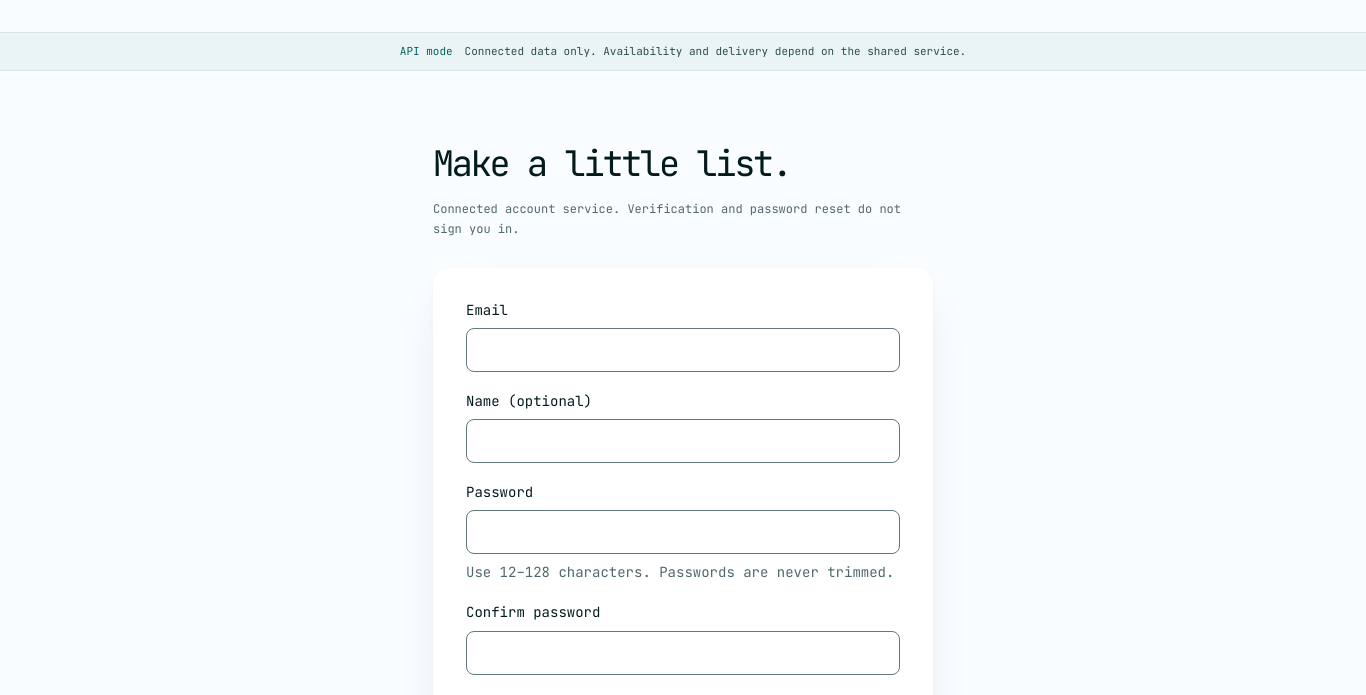
real cookie session screens › registers with optional name and sends forgot-password requests through the actual API
Type "player@example.com" into the field labelled "Email" at (683, 350), box [466, 328, 900, 372]
Type "Player" into the field labelled "Name (optional)" at (683, 441), box [466, 419, 900, 463]
Type "example-password" into the password field labelled "Password" at (683, 532), box [466, 510, 900, 554]
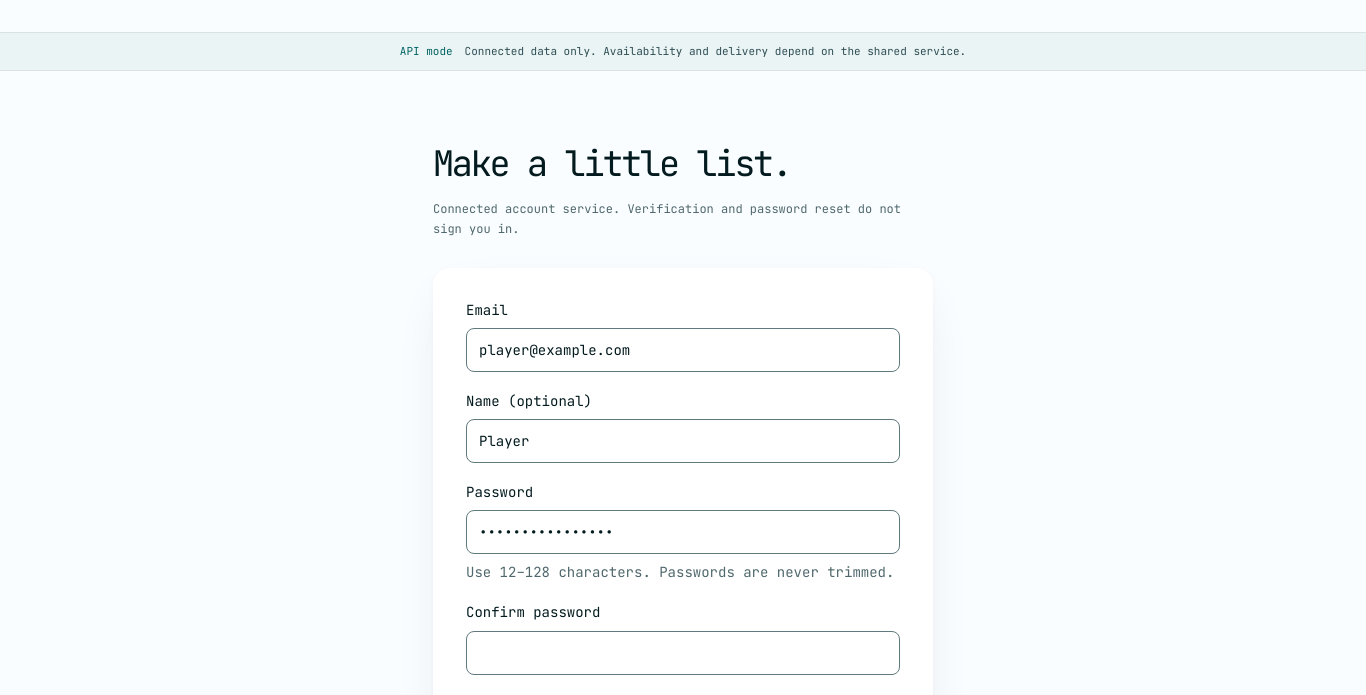
Type "example-password" into the password field labelled "Confirm password" at (683, 653), box [466, 631, 900, 675]
(page scrolled)
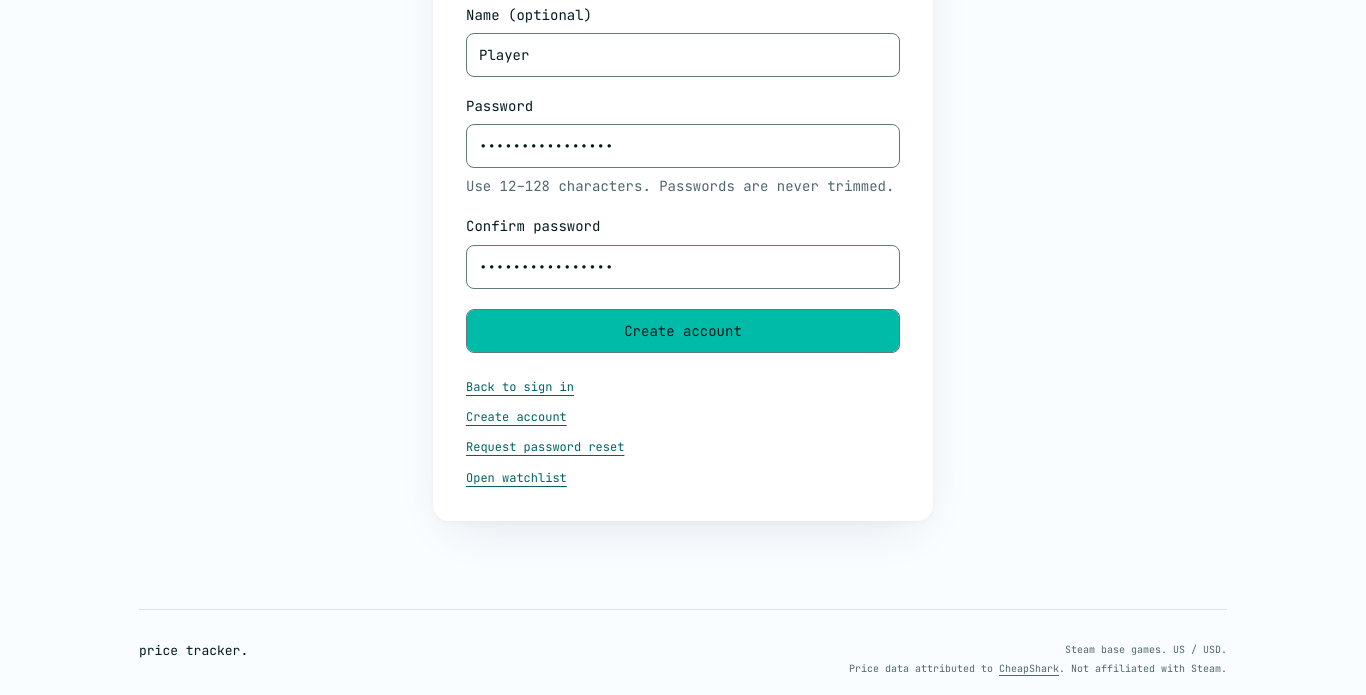
Click the button "Create account" at (683, 331), box [466, 309, 900, 353]
(page scrolled)
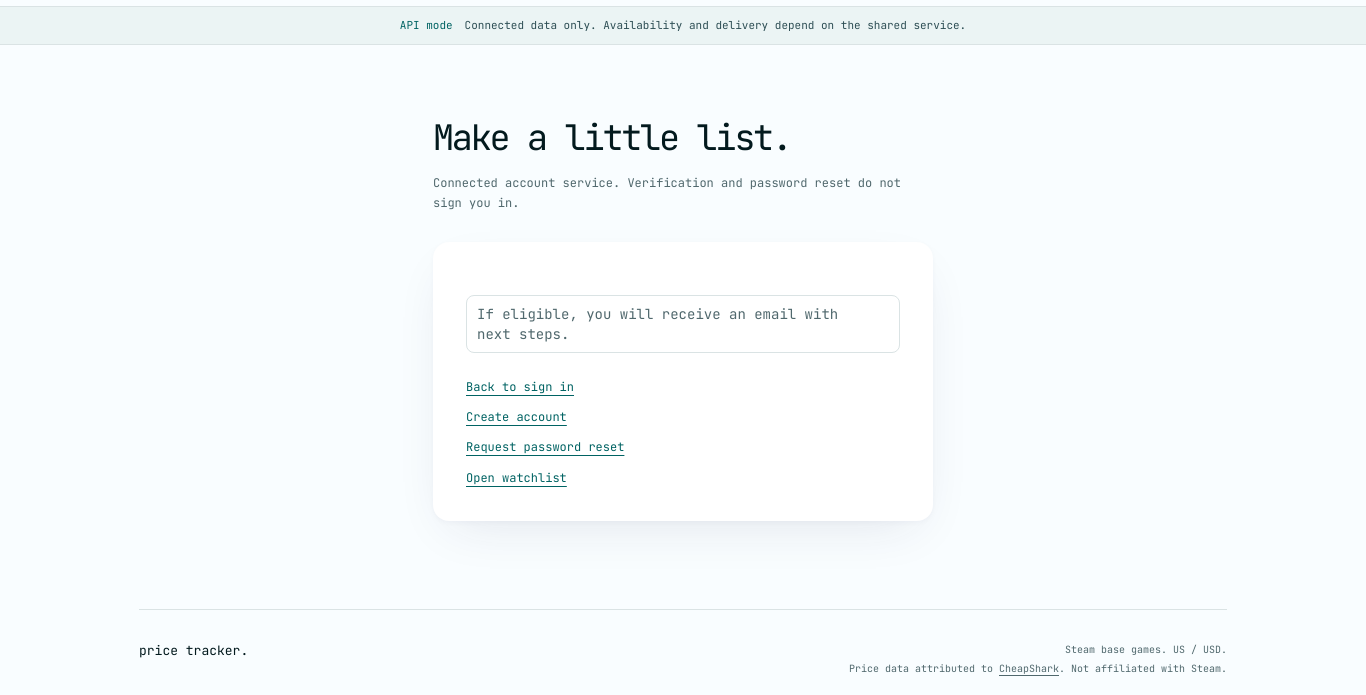
Now the text "If eligible, you will receive an email with next steps." is shown, box [477, 304, 889, 344]
Click the link "Request password reset" at (545, 448), box [466, 438, 624, 458]
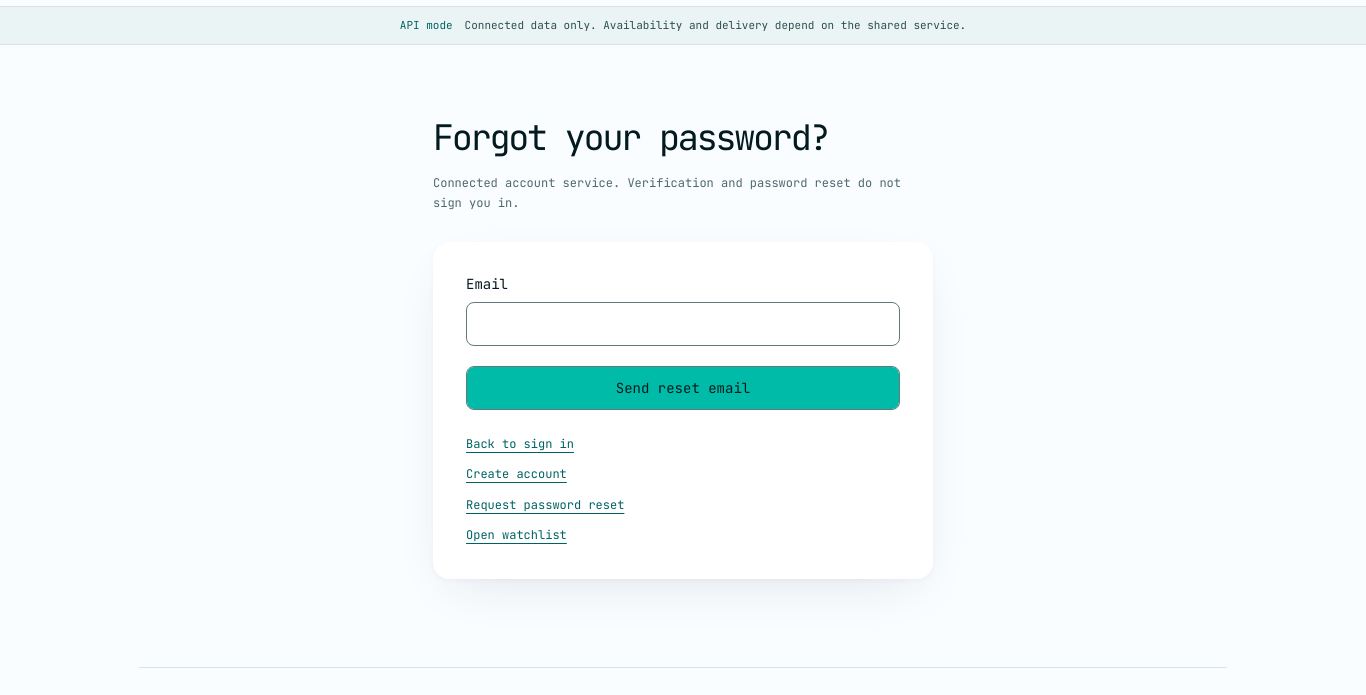
Type "player@example.com" into the field labelled "Email" at (683, 324), box [466, 302, 900, 346]
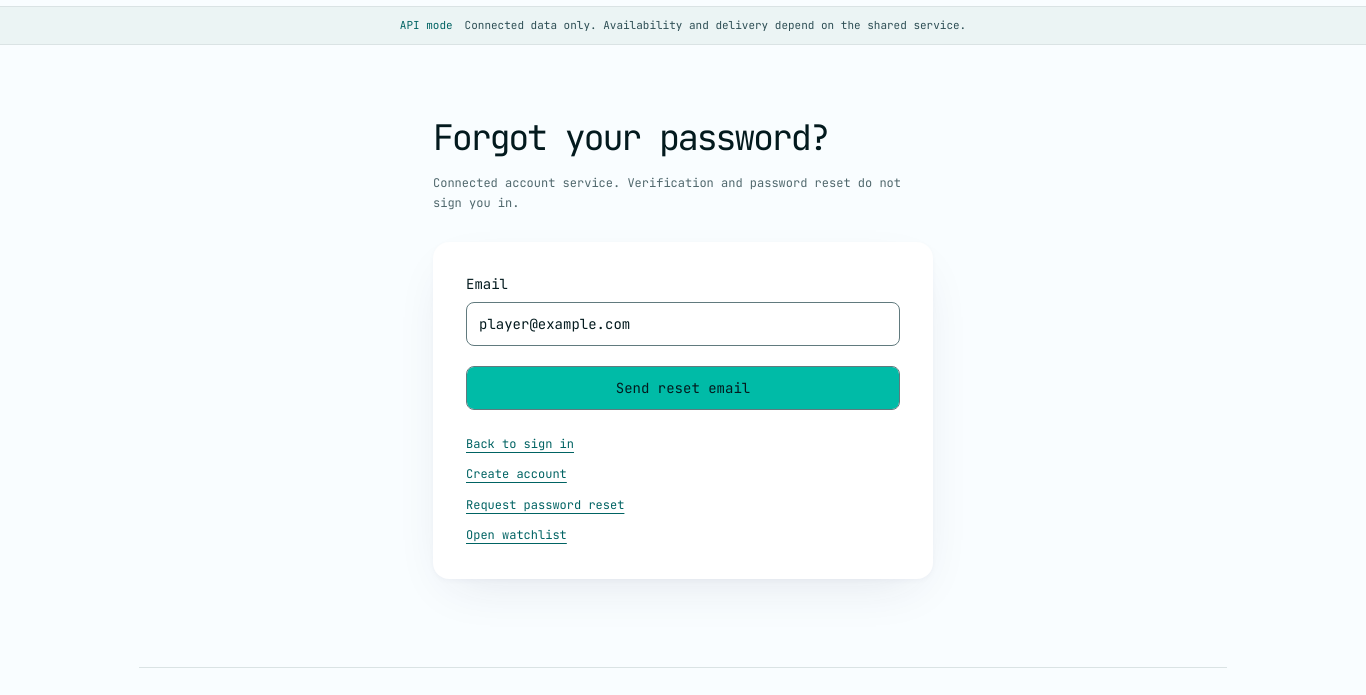
Click the button "Send reset email" at (683, 388), box [466, 366, 900, 410]
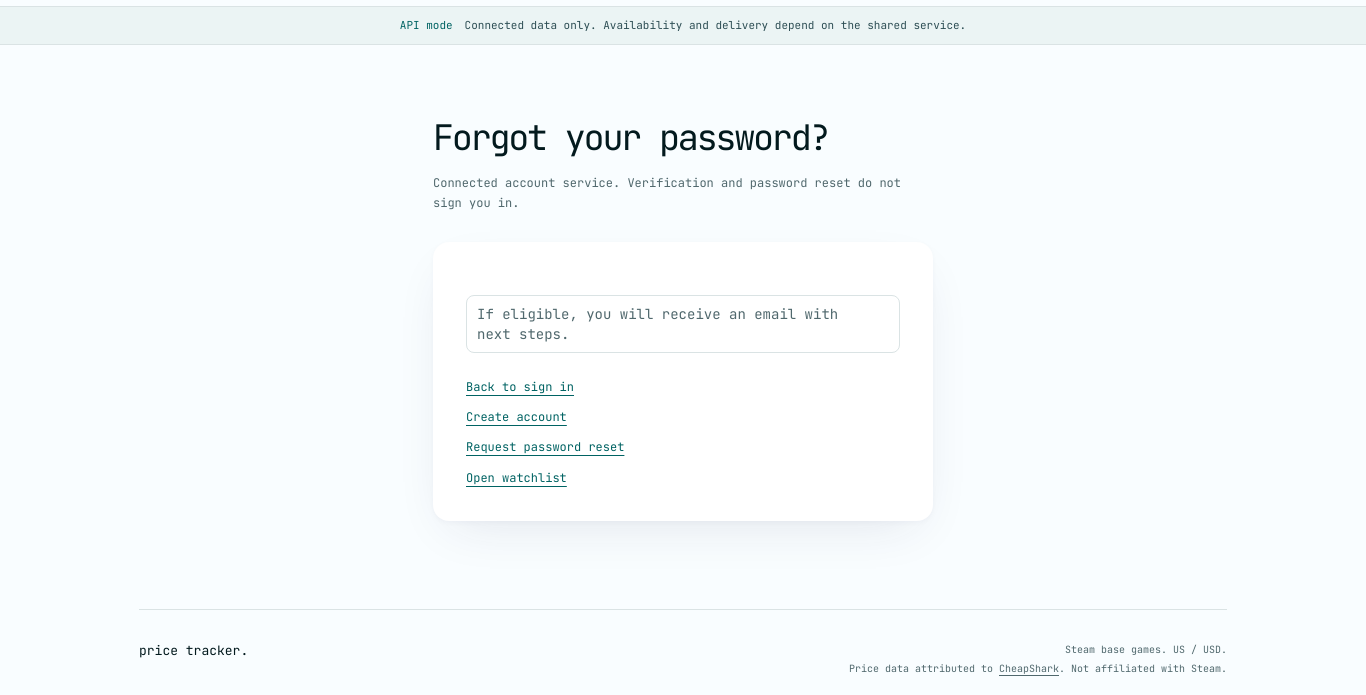
Now the text "If eligible, you will receive an email with next steps." is shown, box [477, 304, 889, 344]
